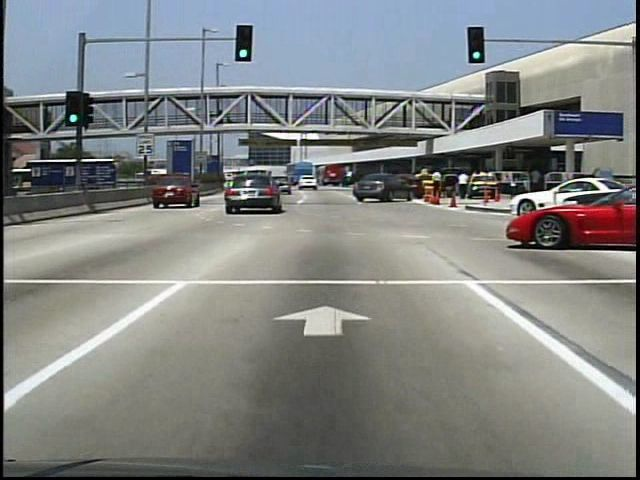person: (430, 169, 447, 205), (506, 173, 522, 208), (456, 172, 471, 202), (529, 170, 541, 193), (216, 110, 225, 128)
